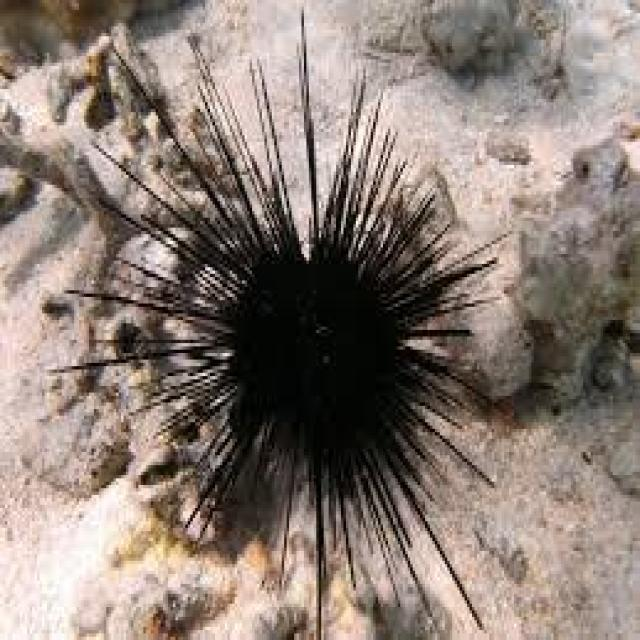Urchin: (47, 20, 502, 623)
